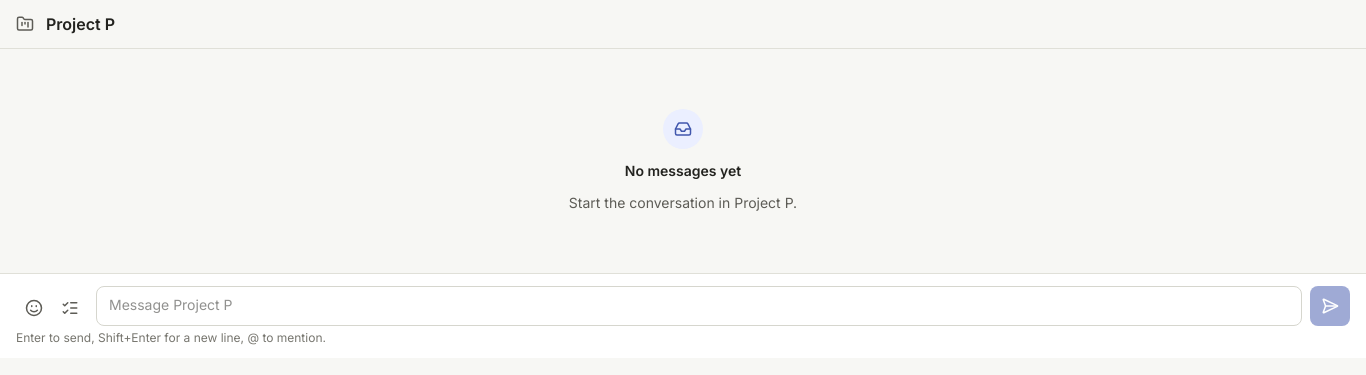
Test: MessageThread in a project channel › autocompletes @mentions from the channel members only, never the sender
Type "@" into the dropdown labelled "Message Project P" at (699, 306), box [96,286,1302,326]
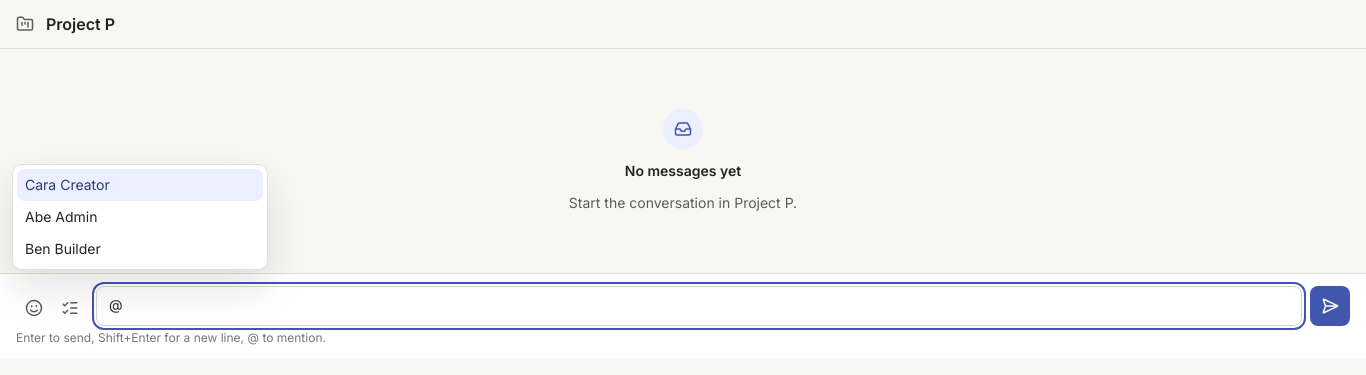
Now the options read "Cara Creator", "Abe Admin", "Ben Builder", in this order, box [17,169,263,201]; [25,208,98,225]; [25,240,101,257]
